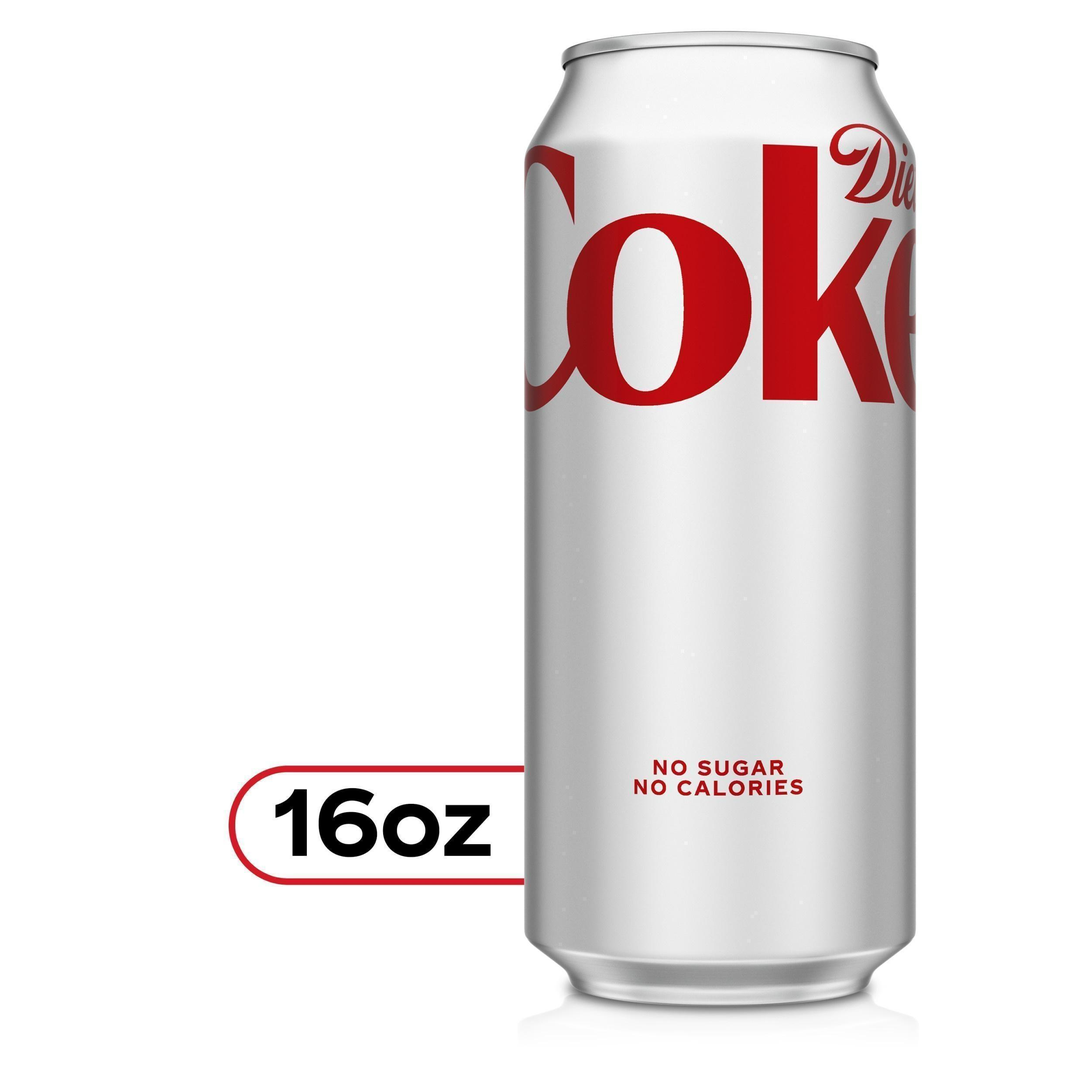tin can: (520, 24, 921, 1012)
